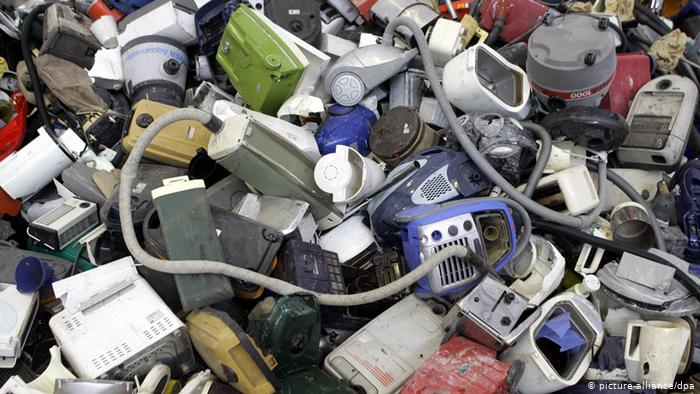electrodomesticos: (61, 279, 181, 363), (421, 199, 500, 284)
